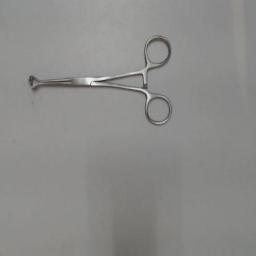Babcock Tissue Forceps: (24, 32, 174, 128)
